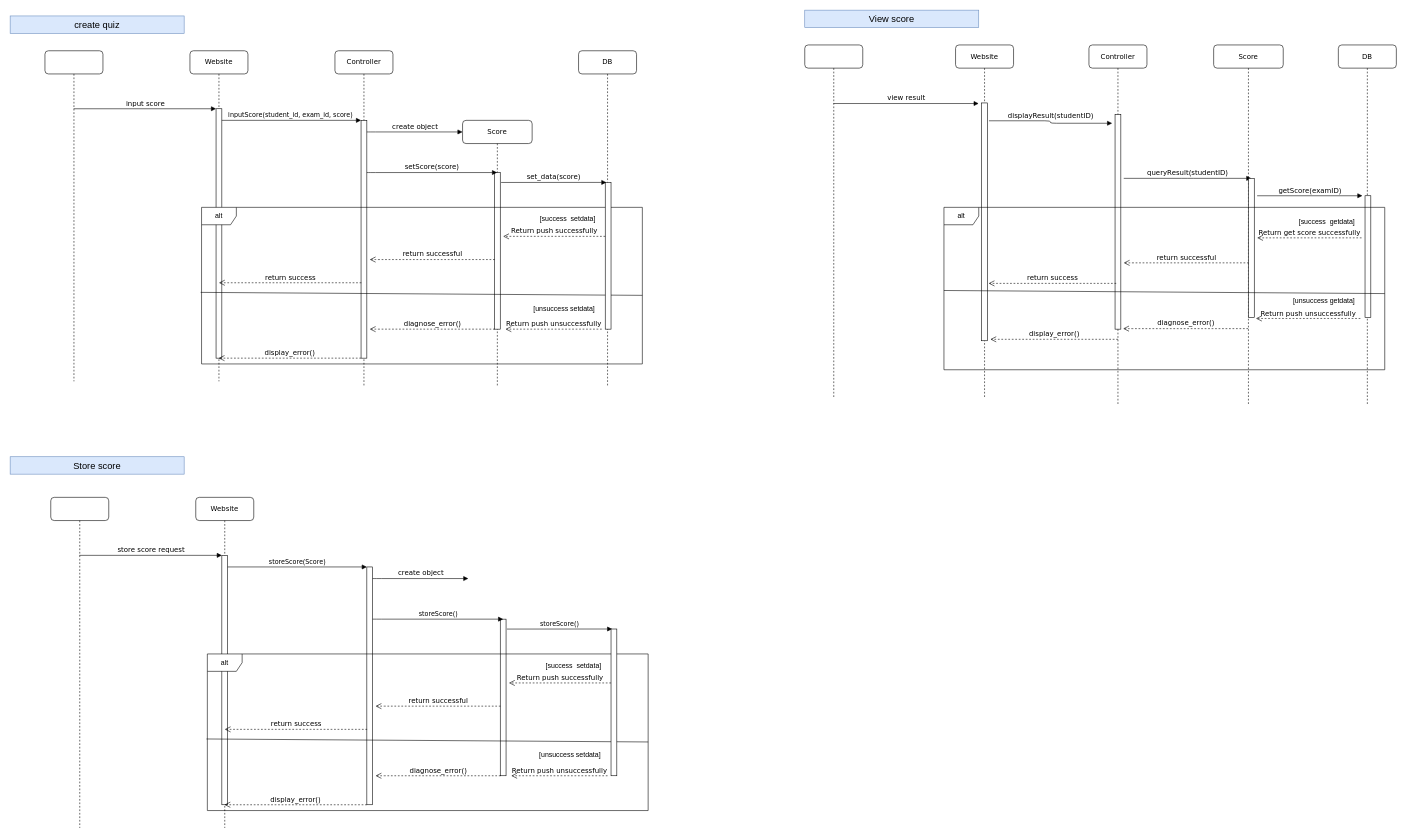
The diagram is 1407 pixels wide and 838 high, and some of its shapes have lost their labels. Here are the shapes that lost their labels. From the top down, the box of each, then its label:
(44, 50, 103, 381): Teacher
(804, 44, 863, 399): Student
(50, 497, 109, 828): OAA Staff
